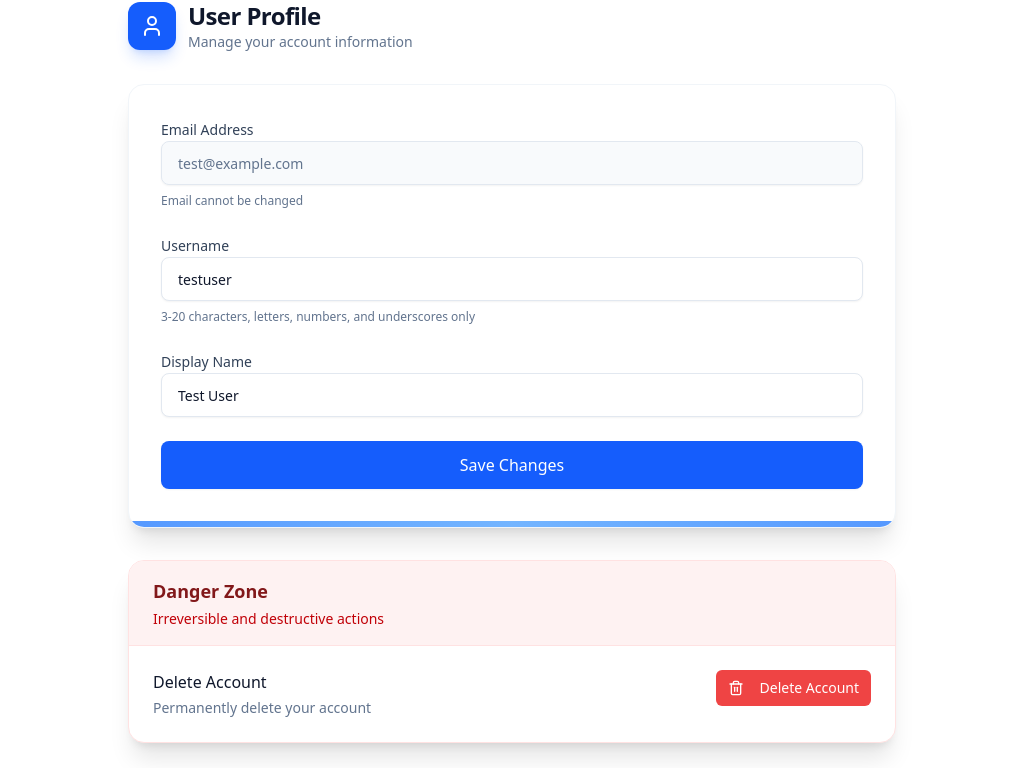
Test: UserProfilePage › should show delete confirmation dialog when delete button clicked
Click the button "Delete Account" at (793, 688), box [716,670,871,706]
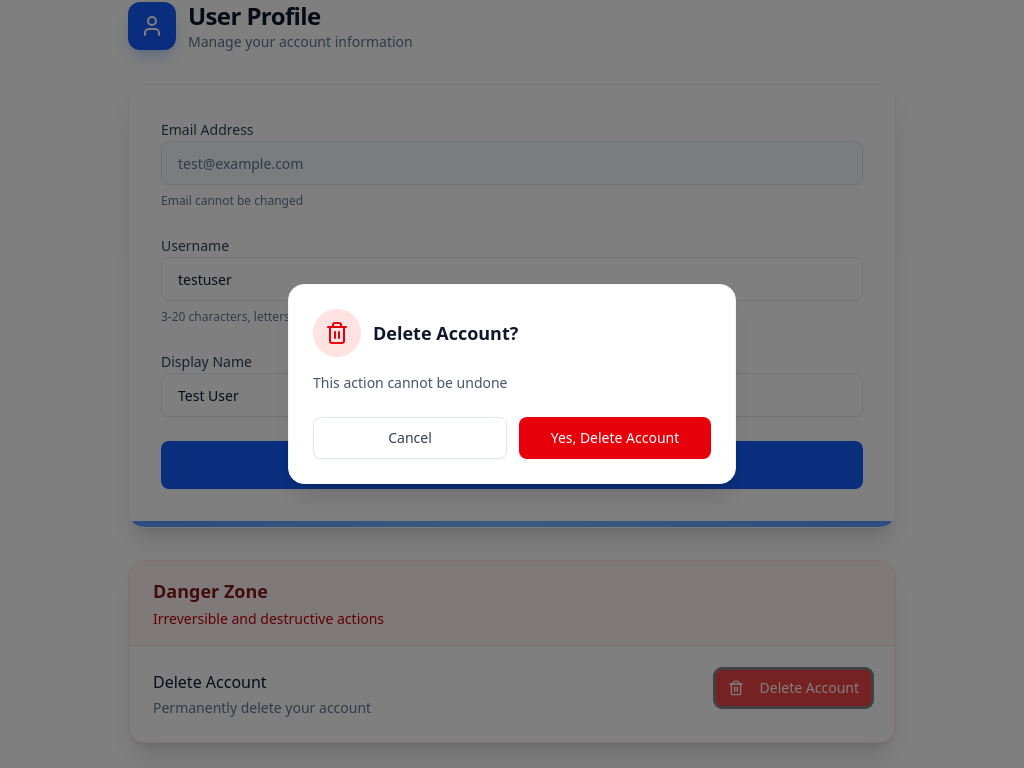
Check: the heading "Delete Account?" is shown, box [373,319,518,347]
Check: the text "This action cannot be undone" is shown, box [313,373,508,392]
